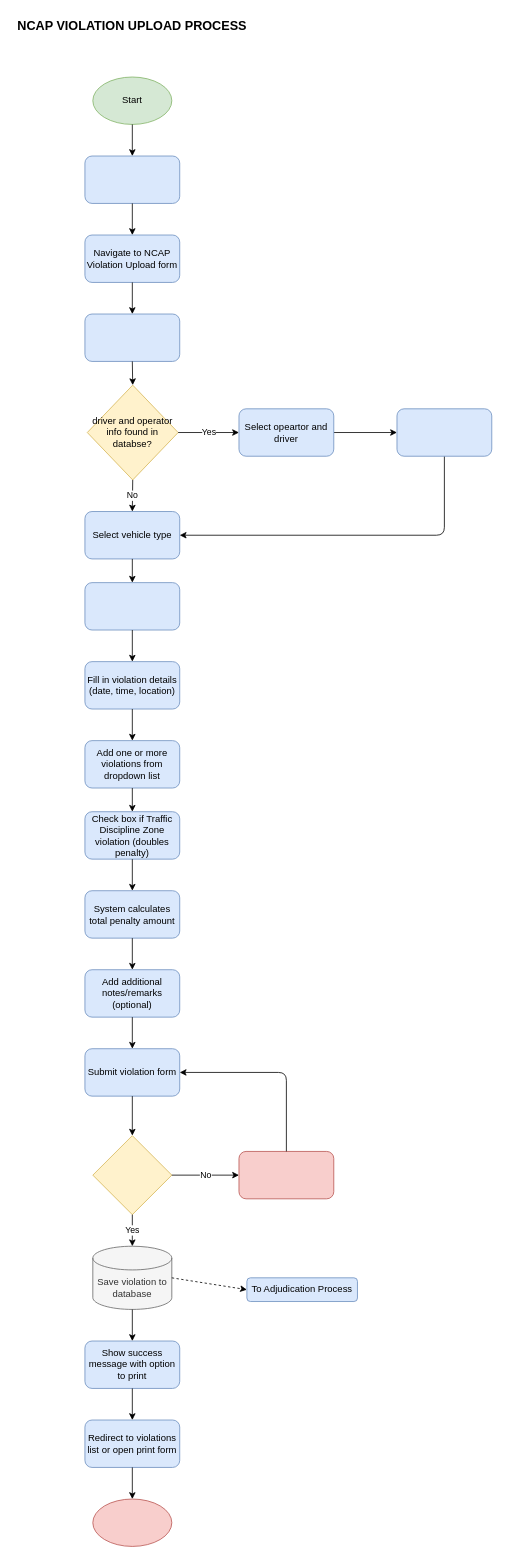
The diagram is 506 pixels wide and 1560 high, and some of its shapes have lost their labels. The centre of each missing label's shape, as x and y in pixels:
Autopopulate fields: point (444, 432)
End: point (132, 1522)
Form valid?: point (132, 1175)
Officer logs in to the system: point (132, 179)
Search for operator or driver (optional): point (132, 337)
Show validation errors and return to form: point (286, 1175)
Upload image: point (132, 606)
